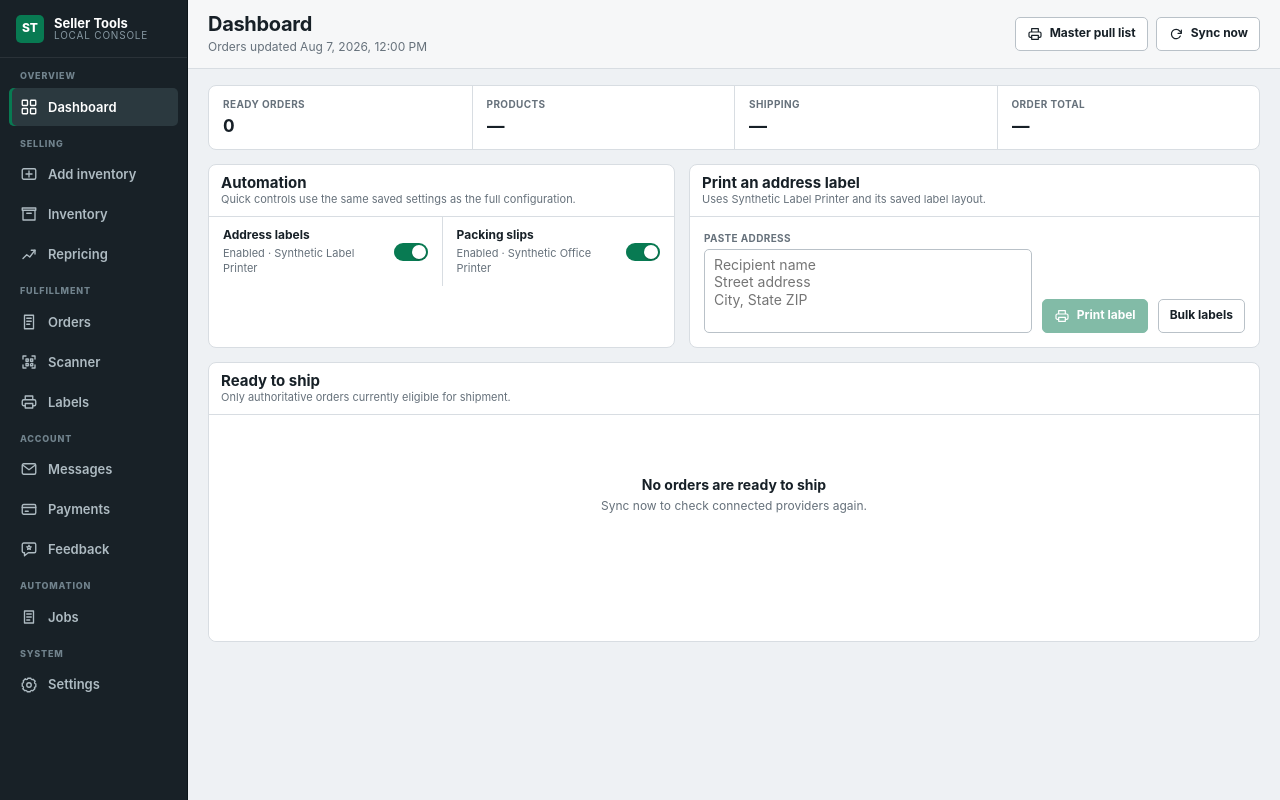
it: bulk address labels › works while the TCGplayer seller connection is disconnected
Click the link "Labels" at (55, 402), box x1=20 y1=393 x2=89 y2=411
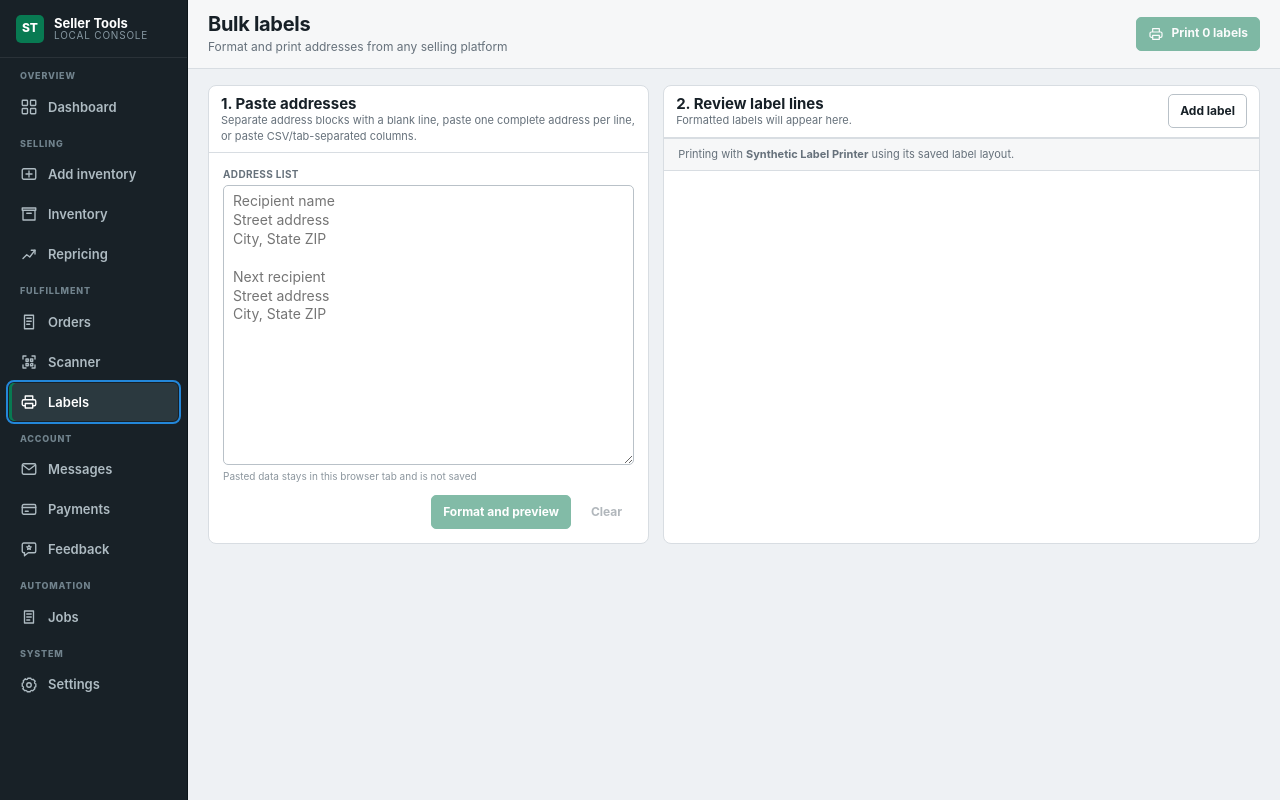
Result: the heading "Bulk labels" is shown at x1=208 y1=12 x2=310 y2=36
